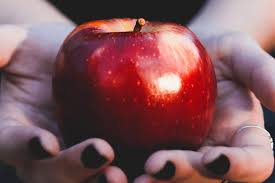apple: (60, 21, 215, 151)
